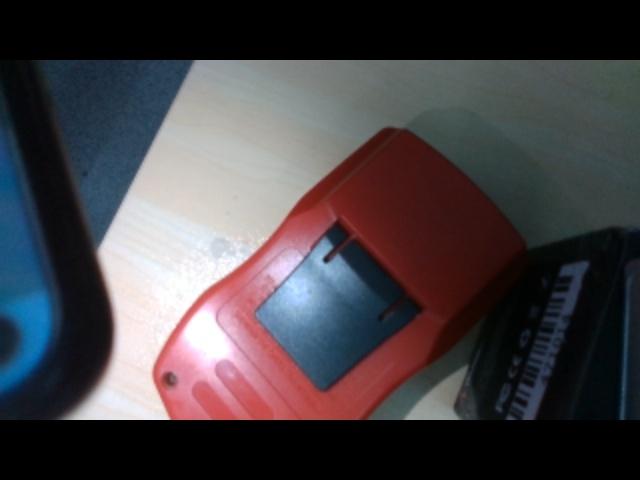Multimeter: (151, 126, 531, 420)
Screw holes: (162, 373, 178, 388)
